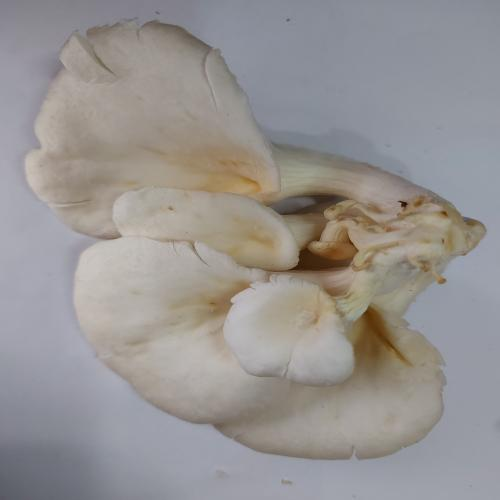Oyster Mushroom: (24, 17, 487, 461)
